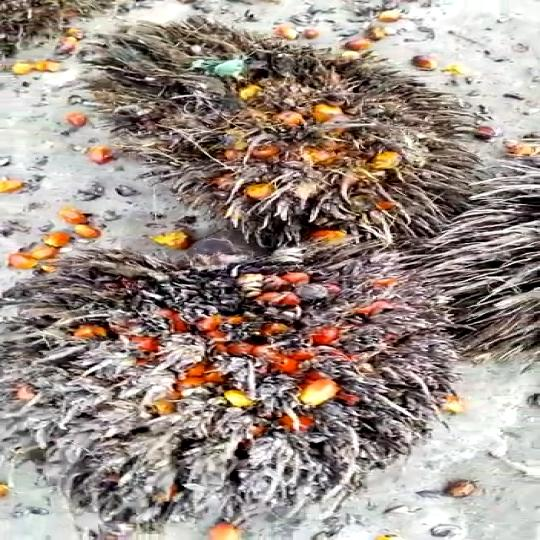terlalu masak: (0, 252, 468, 527), (75, 23, 487, 254)
